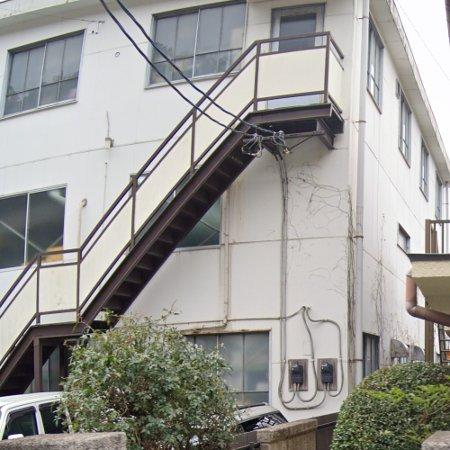stairs: (0, 32, 345, 387)
